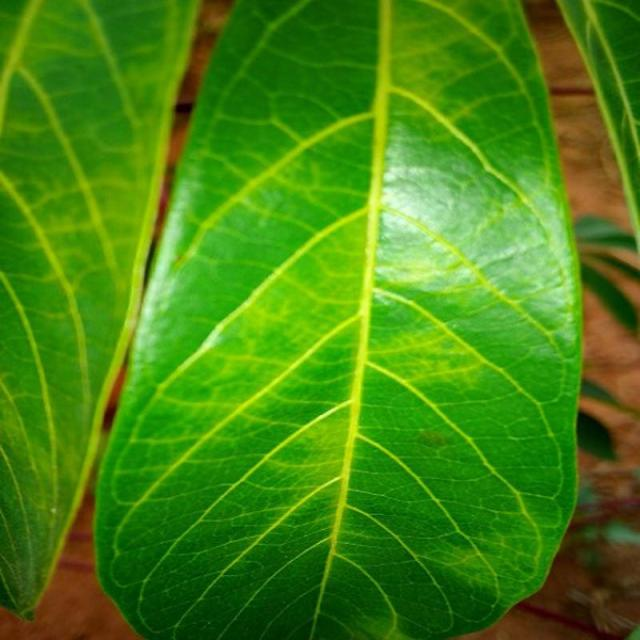cassava leaf: (91, 0, 585, 638), (1, 0, 202, 623)
